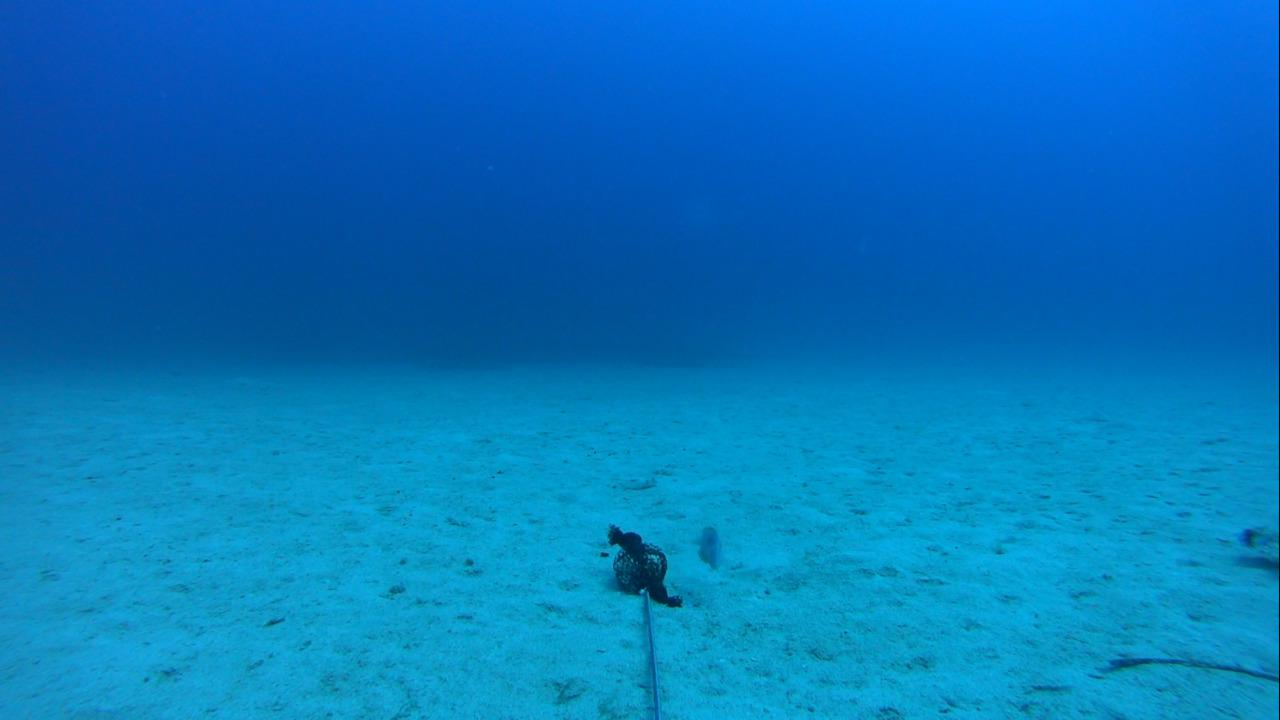dactylopterus: (1228, 516, 1279, 559)
raor: (691, 519, 735, 575)
